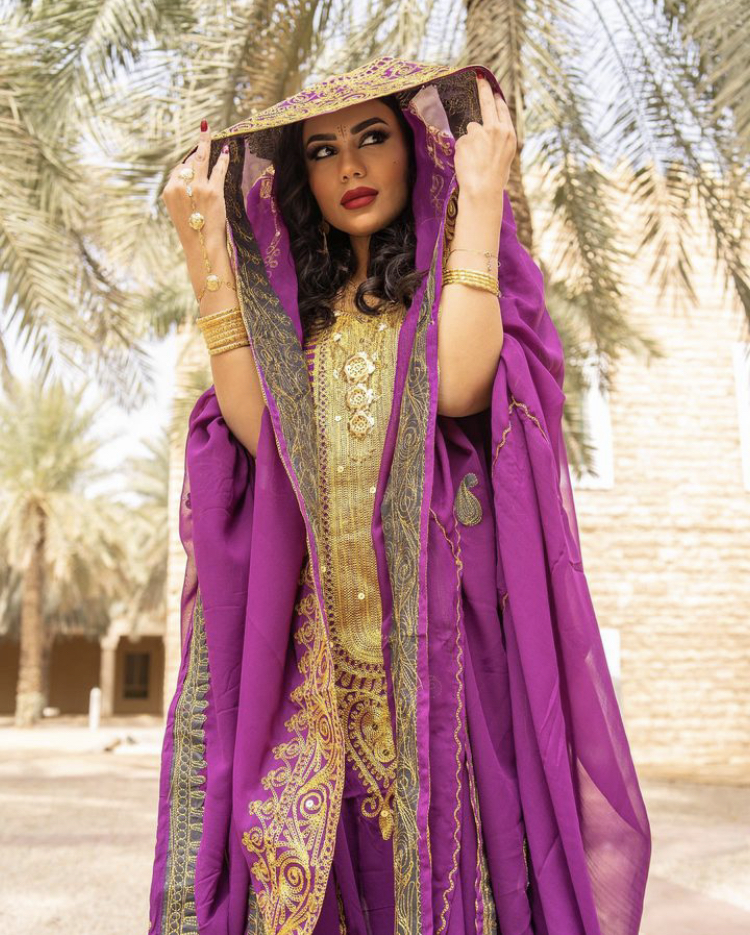Saudi_Founding_Day: (143, 54, 657, 935)
